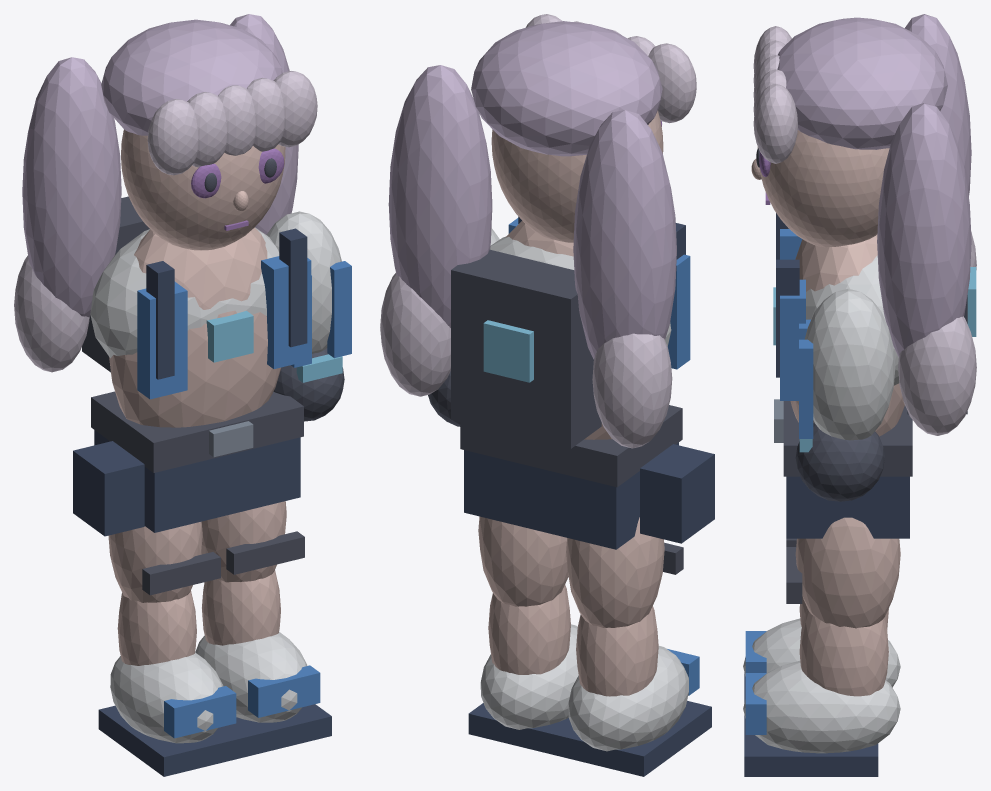
The model's file is lila-operator.glb.
The picture shows the model from 3 angles, left to right: view 1: azimuth 30°, elevation 25°; view 2: azimuth 150°, elevation 25°; view 3: azimuth 270°, elevation 25°; orthographic projection. The views are drawn at different scales.
Visible parts, largest first — view 1: left_long_hair, torso, hair_crown, head, shorts, belt, jacket_chest, left_boot, utility_pouch, left_hair_tip, right_boot, left_shin (+27 smaller); view 2: backpack, left_long_hair, right_long_hair, hair_crown, shorts, left_hair_tip, left_thigh, left_boot, belt, head, utility_pouch, right_thigh (+14 smaller); view 3: right_long_hair, hair_crown, left_sleeve, head, right_boot, right_thigh, right_hair_tip, right_shin, shorts, left_glove, right_sole, torso (+17 smaller).
Part boxes in pixels (x1,y1,x2,y2): left_long_hair: (22,57,121,317); torso: (109,227,280,427); hair_crown: (101,19,282,135); head: (121,129,285,250); shorts: (94,430,300,532); belt: (91,391,303,472); jacket_chest: (90,227,279,358); left_boot: (110,652,223,743); utility_pouch: (73,441,144,536); left_hair_tip: (14,255,89,372); right_boot: (195,632,307,722); left_shin: (117,591,196,665); backpack: (451,249,601,448); left_long_hair: (573,110,676,359); right_long_hair: (388,65,492,327); hair_crown: (471,21,662,156); shorts: (464,442,678,549); left_hair_tip: (592,333,672,448); left_thigh: (566,517,664,627); left_boot: (568,646,688,751); belt: (460,405,682,487); head: (491,110,663,242); utility_pouch: (640,444,714,543); right_thigh: (478,516,568,606); right_long_hair: (877,103,971,357); hair_crown: (777,17,947,149); left_sleeve: (804,288,895,440); head: (757,130,889,247); right_boot: (743,660,900,753); right_thigh: (795,517,900,628); right_hair_tip: (898,316,976,435); right_shin: (799,608,888,696); shorts: (786,476,909,538); left_glove: (795,422,884,501); right_sole: (744,715,878,776); torso: (790,234,904,436).
Size of the model in its own units: 1.25 by 2.96 by 0.89.
